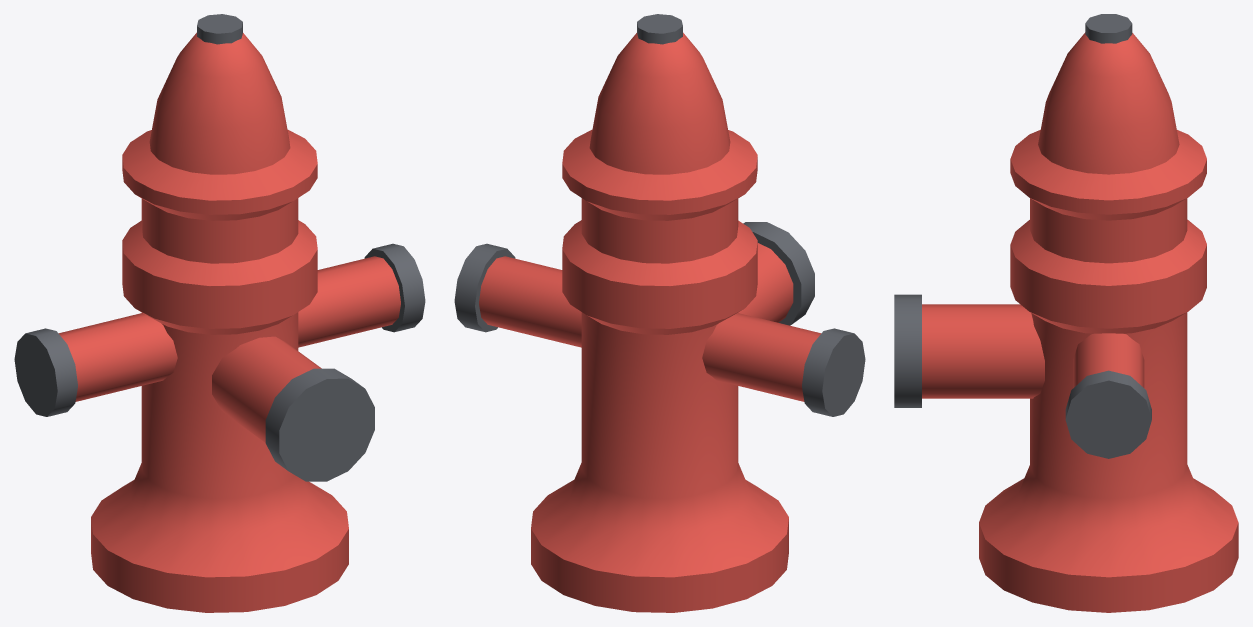
The model's file is Hydrant.fbx.
3 renders of one model, left to right at view 1: azimuth 30°, elevation 25°; view 2: azimuth 150°, elevation 25°; view 3: azimuth 270°, elevation 25°, orthographic.
Visible parts, largest first — view 1: Hydrant; view 2: Hydrant; view 3: Hydrant.
Part boxes in pixels (x1=…): Hydrant: x1=14, y1=14, x2=425, y2=612; Hydrant: x1=454, y1=14, x2=865, y2=612; Hydrant: x1=894, y1=14, x2=1238, y2=612.
Size of the model in its own units: 0.54 by 0.75 by 0.4375.
